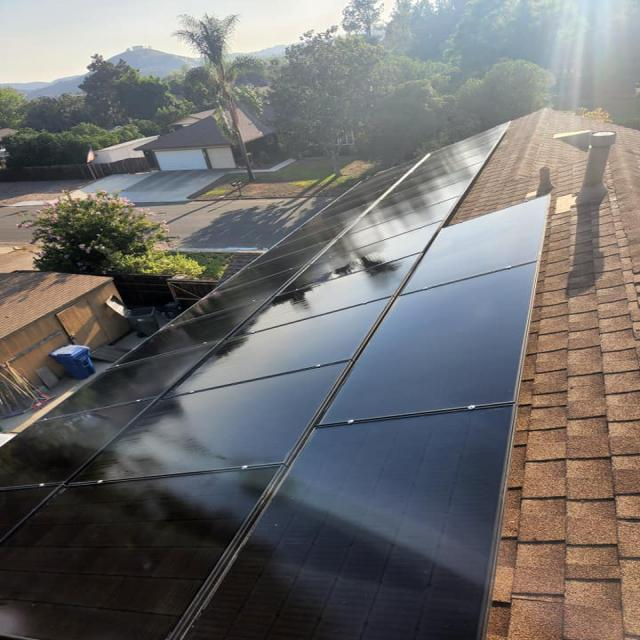clean-solar-panel: (3, 125, 505, 640), (187, 199, 547, 640)
